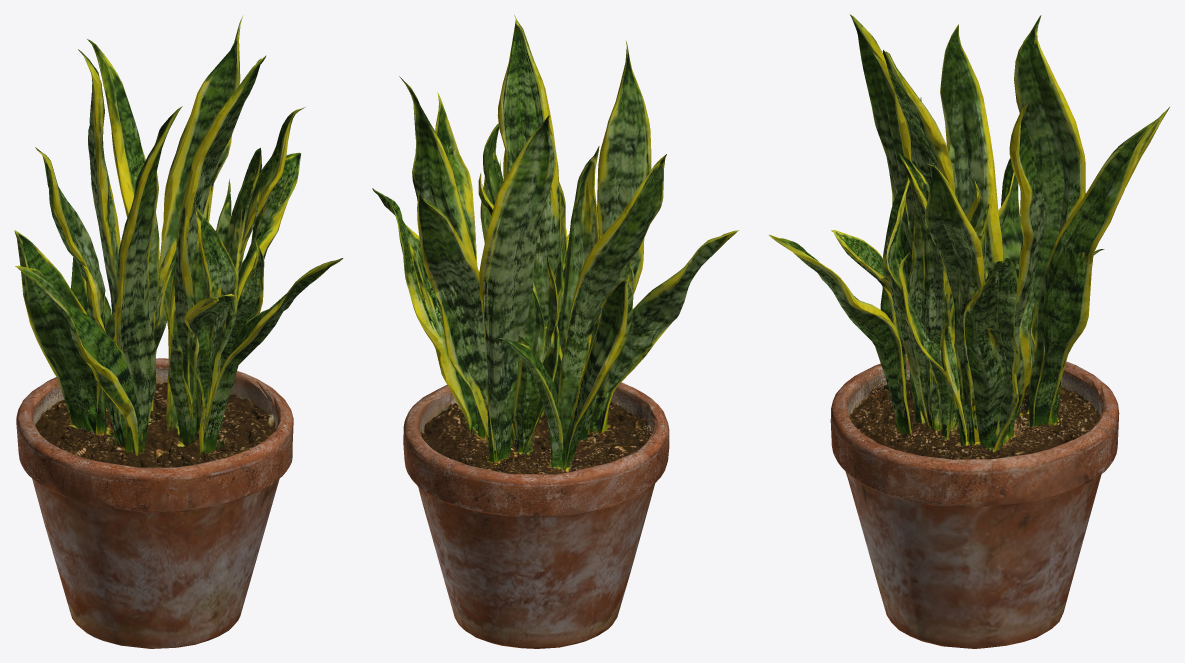
The model's file is w51snake.glb.
3 renders of one model, left to right at view 1: azimuth 30°, elevation 25°; view 2: azimuth 150°, elevation 25°; view 3: azimuth 270°, elevation 25°, orthographic. The views are drawn at different scales.
Visible parts, largest first — view 1: output_unwrapped; view 2: output_unwrapped; view 3: output_unwrapped.
Boxes of the visible parts, box(x1,y1,x2,y2) form: output_unwrapped: box(14, 16, 343, 648); output_unwrapped: box(372, 15, 738, 648); output_unwrapped: box(768, 14, 1169, 648).
Bounding box in the file's own units: 0.3635 × 0.6 × 0.3654.
Materials: 1 (1 with a texture image).
